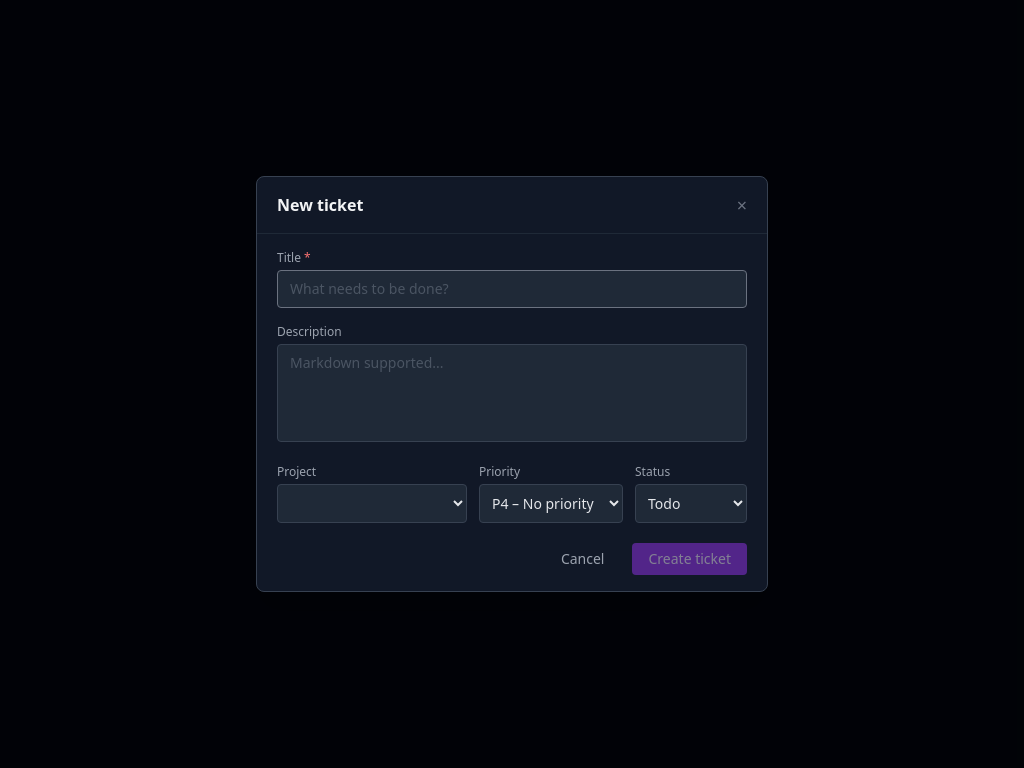
Test: CreateTicketModal › Create ticket button is enabled when title is typed
Type "My new ticket" into the field with placeholder "What needs to be done?" at (512, 289), box [277,270,747,308]
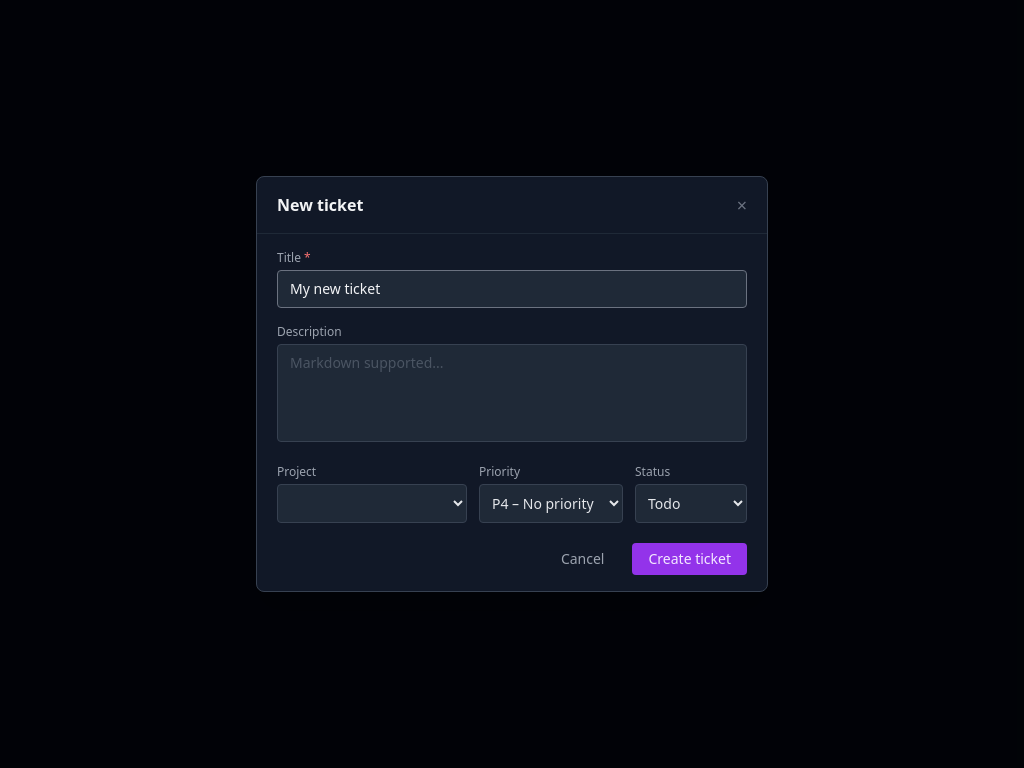
Check: the button "Create ticket" is enabled, box [632,543,747,575]
